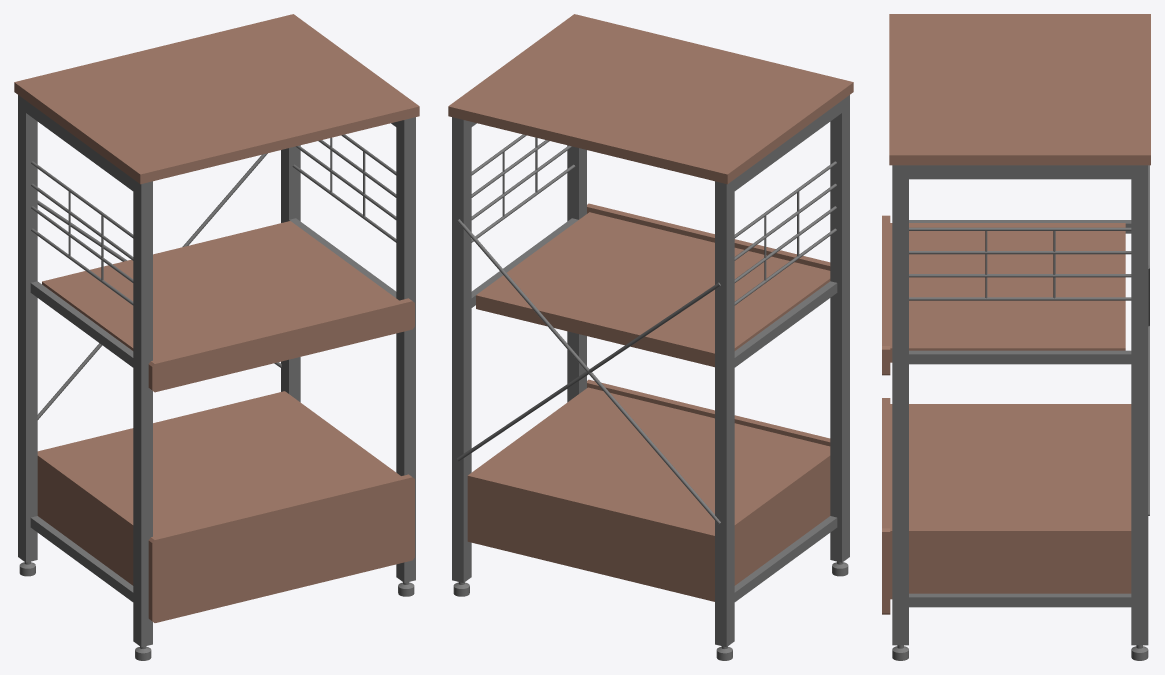
Rendered from 753_kitchen_rack.glb.
The picture shows the model from 3 angles, left to right: view 1: azimuth 30°, elevation 25°; view 2: azimuth 150°, elevation 25°; view 3: azimuth 270°, elevation 25°; orthographic projection. The views are drawn at different scales.
Visible parts, largest first — view 1: Body, slider, drawer; view 2: Body, slider, drawer; view 3: Body, slider, drawer.
Boxes of the visible parts, box(x1,y1,x2,y2) form: Body: box(14, 14, 419, 660); slider: box(42, 221, 414, 392); drawer: box(148, 474, 414, 622); Body: box(448, 14, 853, 660); slider: box(476, 203, 830, 367); drawer: box(587, 379, 830, 446); Body: box(889, 14, 1150, 660); slider: box(882, 215, 1125, 375); drawer: box(882, 398, 890, 614).
Size of the model in its own units: 0.598 by 1 by 0.4814.
